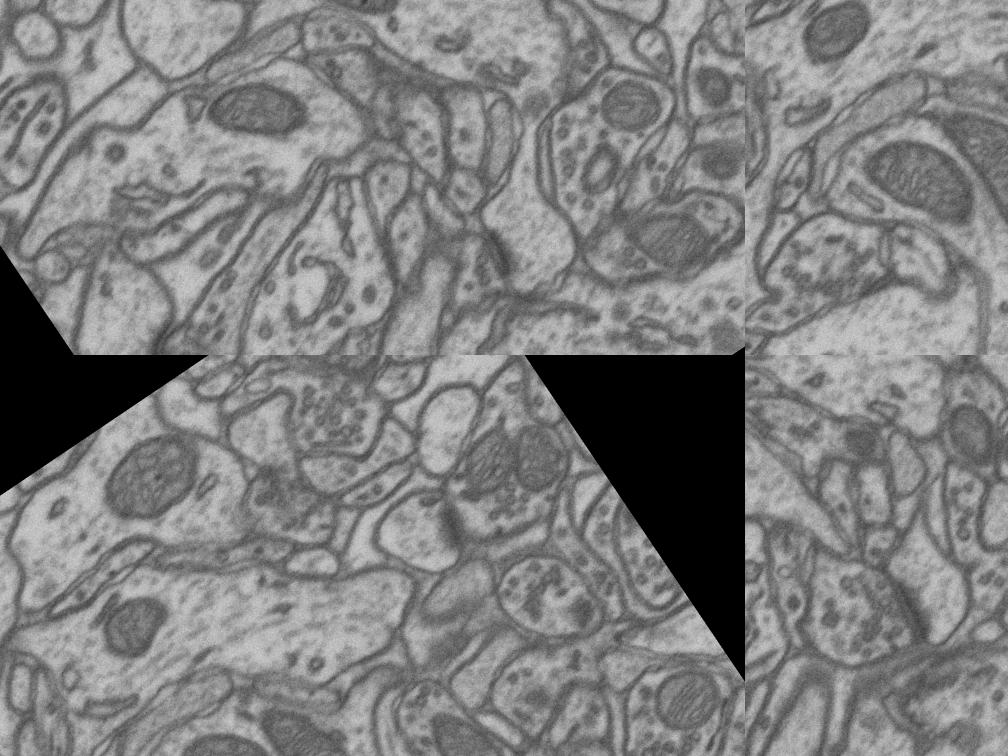mitochondria: (192, 38, 335, 178), (858, 110, 992, 253), (85, 414, 220, 540), (933, 79, 1008, 277), (237, 682, 423, 756), (623, 185, 735, 296), (583, 50, 684, 150), (440, 414, 538, 512), (635, 651, 734, 747), (90, 577, 188, 671), (164, 698, 317, 756), (490, 411, 583, 505), (783, 0, 882, 79), (928, 384, 1008, 476), (668, 34, 745, 126), (417, 689, 517, 756), (265, 355, 398, 405), (299, 0, 415, 49), (0, 521, 32, 677), (987, 399, 1008, 487)
